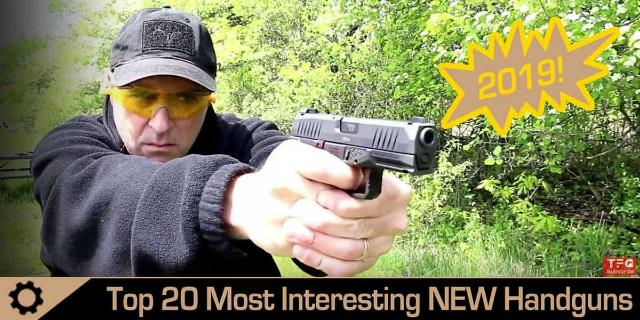handgun: (285, 105, 441, 279)
